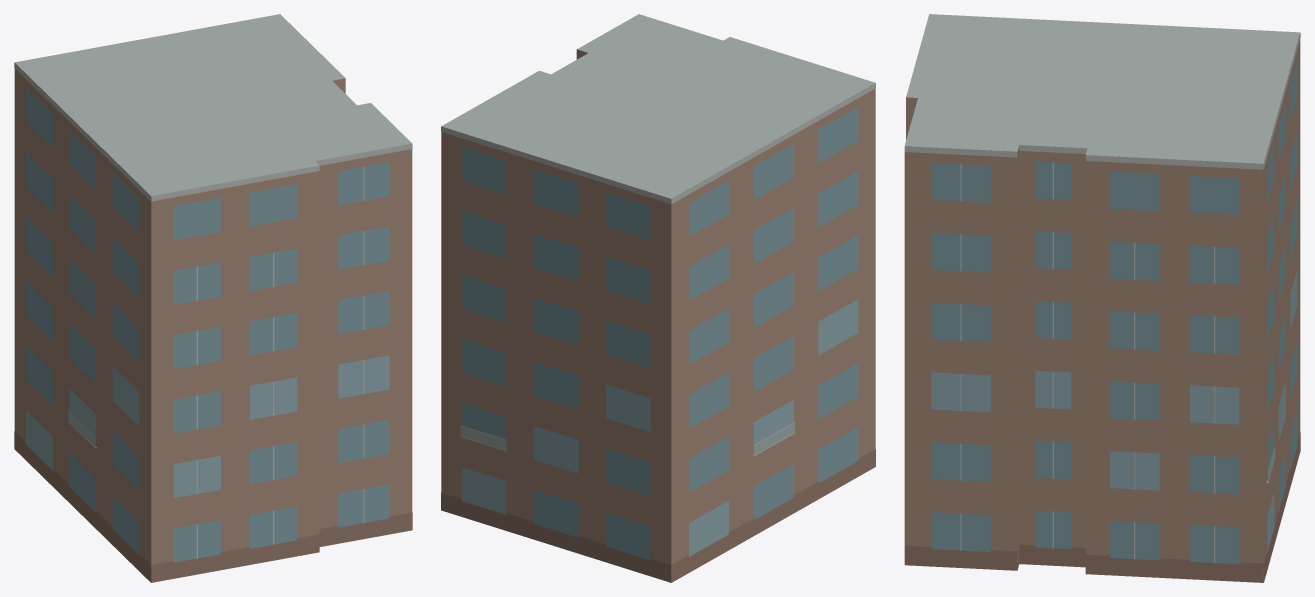
The model's file is survey-upis-32930610.glb.
The picture shows the model from 3 angles, left to right: view 1: azimuth 30°, elevation 25°; view 2: azimuth 150°, elevation 25°; view 3: azimuth 270°, elevation 25°; orthographic projection. The views are drawn at different scales.
Parts seen in each view (by area): view 1: survey-upis-32930610.tmp; view 2: survey-upis-32930610.tmp; view 3: survey-upis-32930610.tmp.
Boxes of the visible parts, x1,y1,x2,y2 form: survey-upis-32930610.tmp: (14, 14, 412, 582); survey-upis-32930610.tmp: (441, 14, 875, 582); survey-upis-32930610.tmp: (904, 14, 1300, 582).
Bounding box in the file's own units: 13.28 × 17.3 × 14.82.
